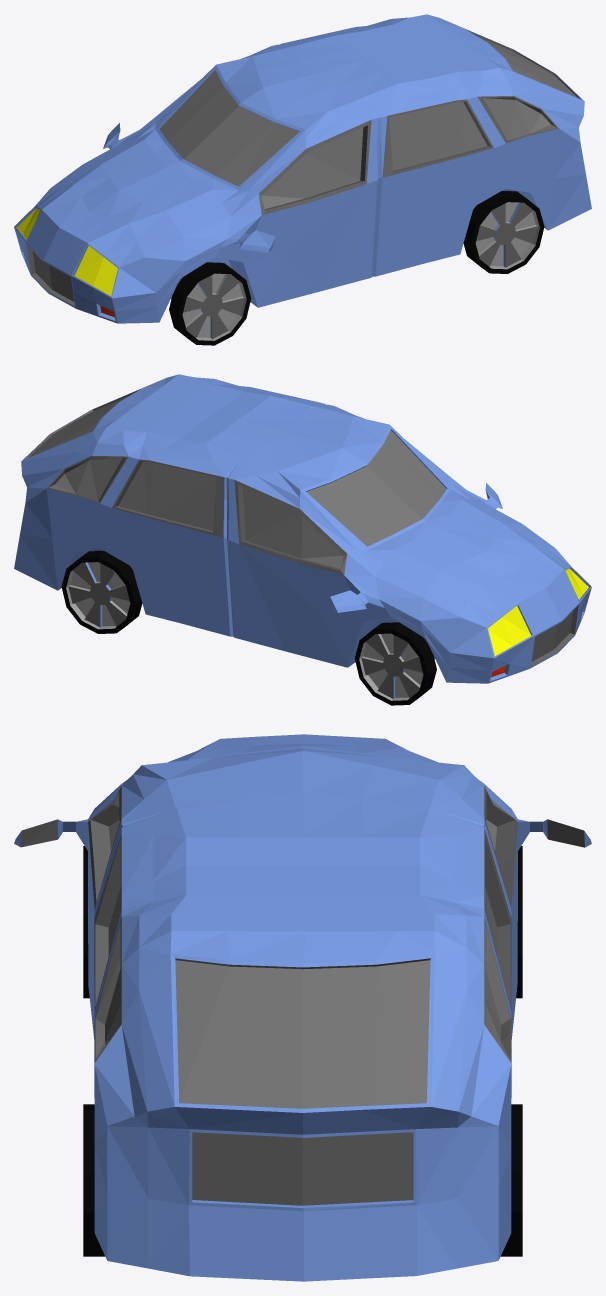
Rendered from Car1.fbx.
3 views of the same model, one above another, from view 1: azimuth 30°, elevation 25°; view 2: azimuth 150°, elevation 25°; view 3: azimuth 270°, elevation 25° (orthographic). The views are drawn at different scales.
Parts seen in each view (by area): view 1: Cube; view 2: Cube; view 3: Cube.
Boxes of the visible parts, bbox=[...] form: Cube: bbox=[14, 14, 591, 345]; Cube: bbox=[14, 374, 591, 705]; Cube: bbox=[14, 734, 591, 1281].
Size of the model in its own units: 789 by 276 by 422.
